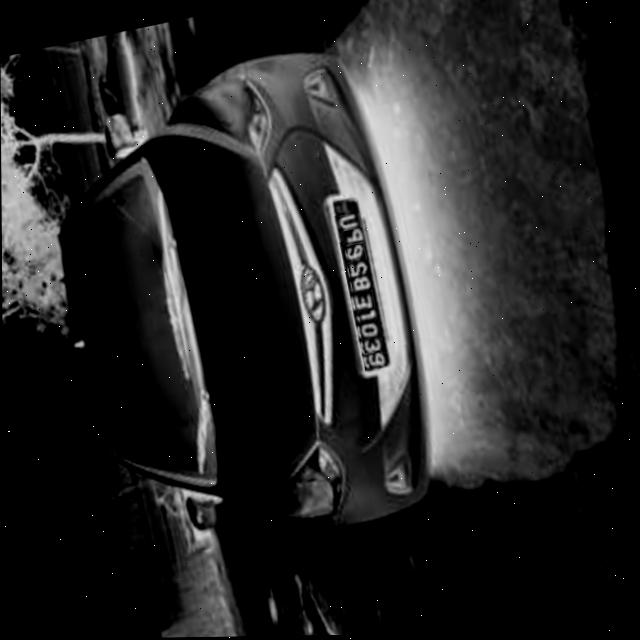0: (358, 321, 381, 340)
1: (358, 309, 378, 322)
3: (362, 337, 384, 354)
5: (347, 260, 369, 278)
6: (344, 244, 366, 262), (367, 352, 387, 369)
B: (350, 274, 373, 294)
E: (352, 290, 375, 311)
IND: (333, 199, 352, 218)
Indian_registered: (332, 200, 384, 372)
P: (342, 228, 364, 246)
U: (337, 213, 359, 231)
